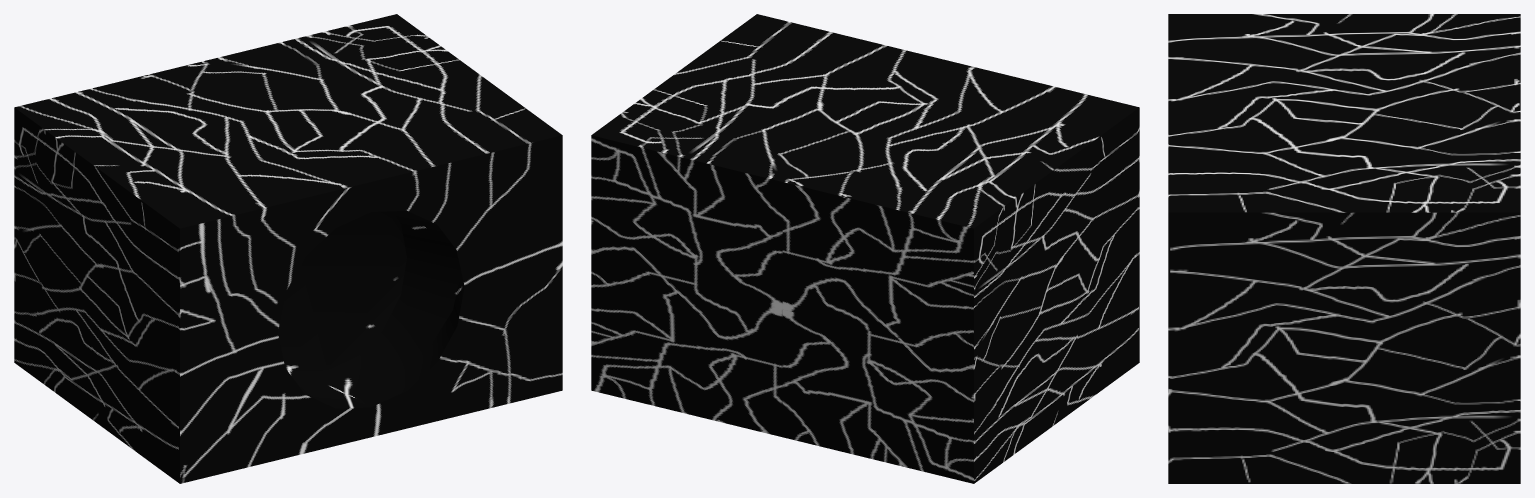
Rendered from TransformingCube.fbx.
3 views of the same model, side by side, from view 1: azimuth 30°, elevation 25°; view 2: azimuth 150°, elevation 25°; view 3: azimuth 270°, elevation 25° (orthographic). The views are drawn at different scales.
Parts seen in each view (by area): view 1: Cube.003; view 2: Cube.003; view 3: Cube.003.
Part boxes in pixels (x1=…): Cube.003: x1=14, y1=14, x2=562, y2=483; Cube.003: x1=591, y1=14, x2=1139, y2=483; Cube.003: x1=1168, y1=14, x2=1520, y2=483.
Bounding box in the file's own units: 16 × 10.2 × 12.
1 material, 1 textured.
